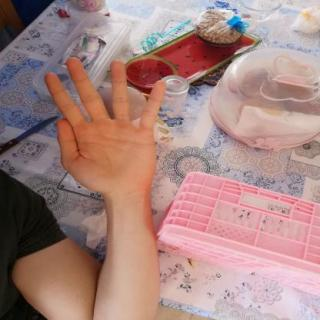SHEEN: (36, 50, 180, 201)
